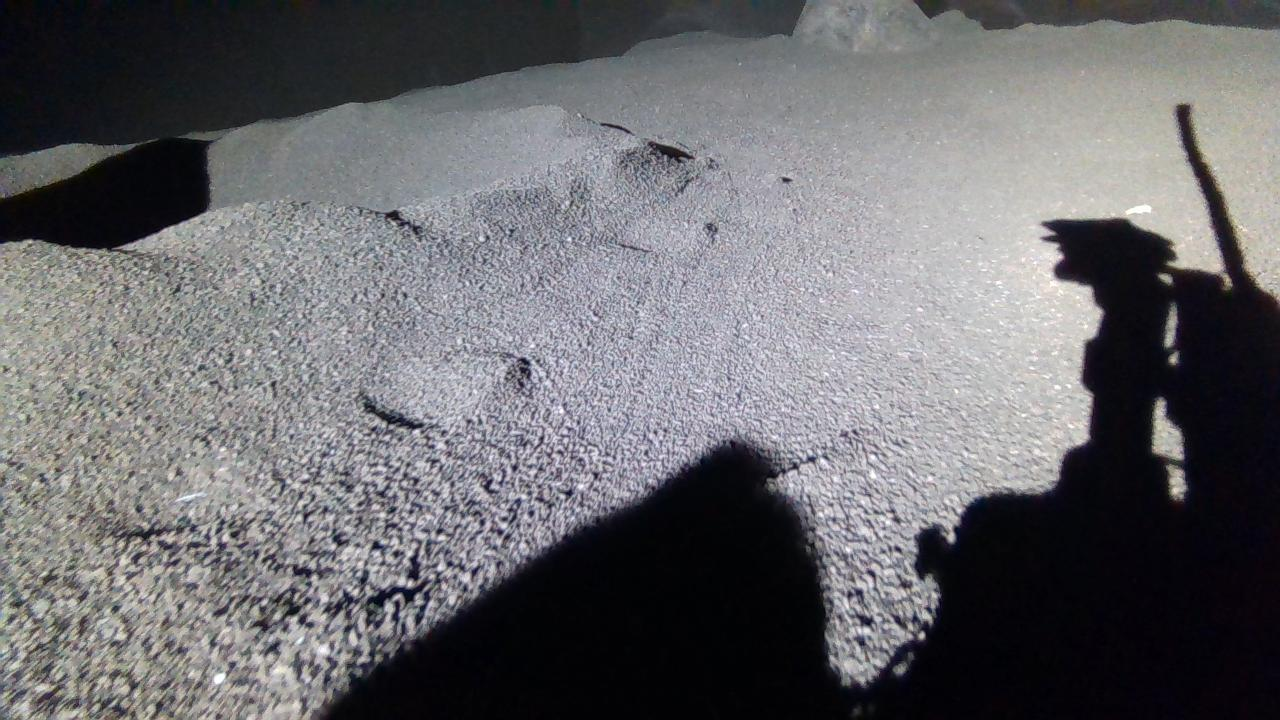rock: (796, 0, 933, 49)
